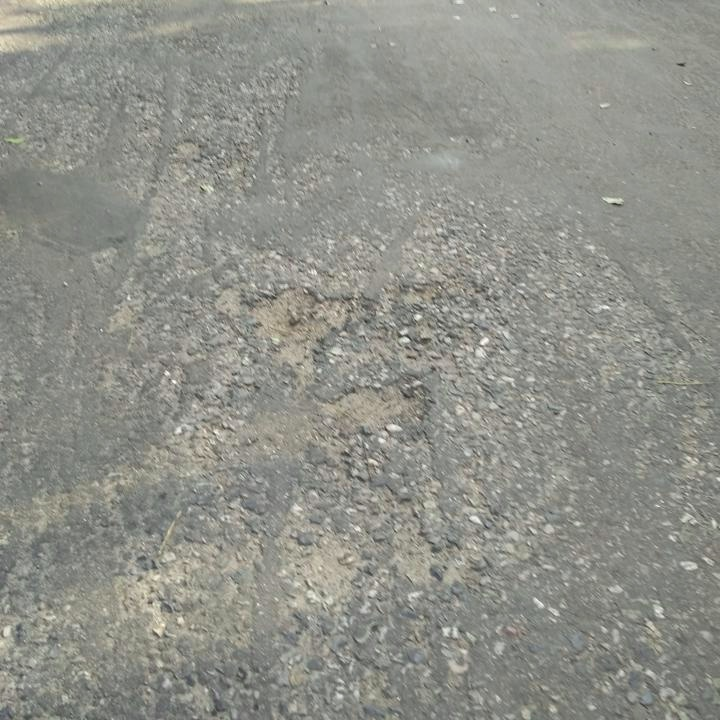pothole: (246, 283, 349, 372), (327, 376, 424, 429)
